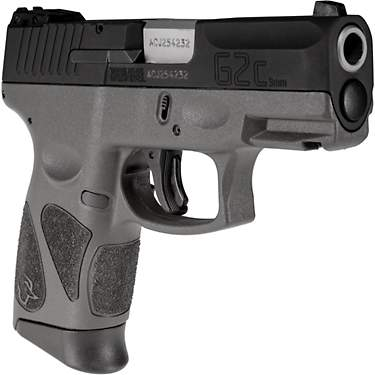gun: (1, 1, 375, 375)
